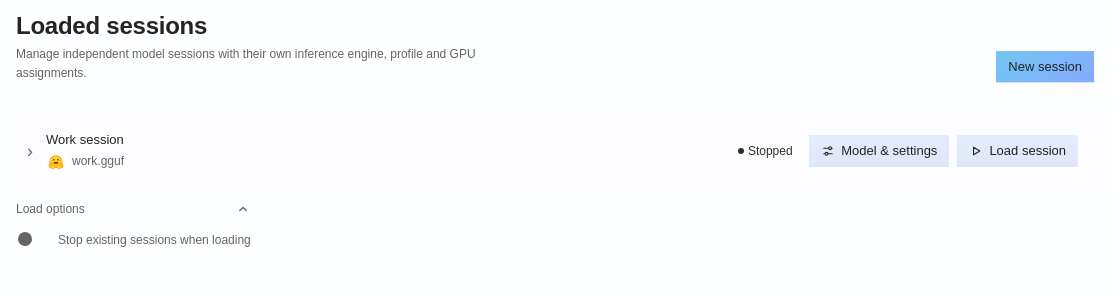
Test: session model settings › does not start a session when profile preparation cannot be persisted
Step 1. Click the button "Load session" → coordinates (1018, 151), box [957,135,1078,167]
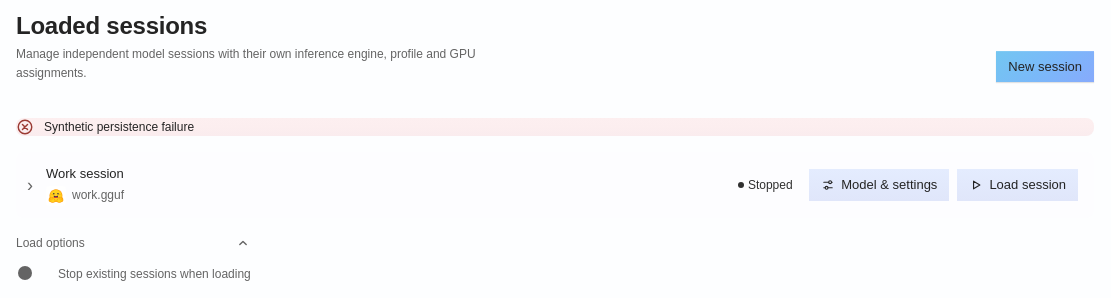
Check: the message reads "Synthetic persistence failure", box [44,120,194,134]
